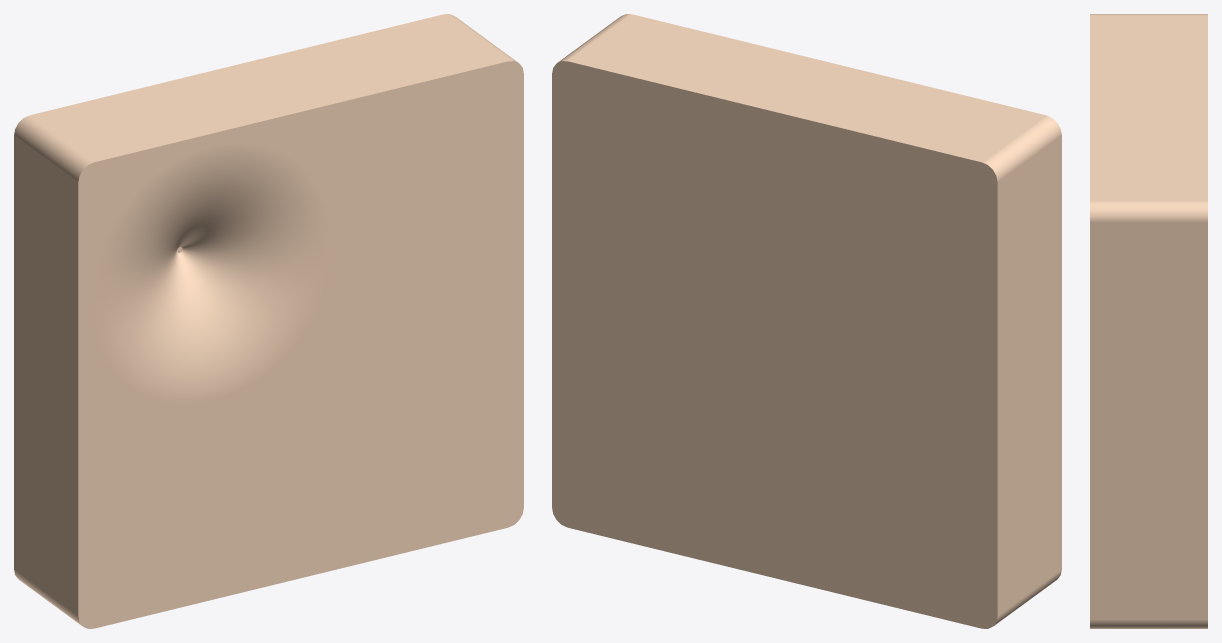
The model's file is Tissue_n40_p40.obj.
The picture shows the model from 3 angles, left to right: view 1: azimuth 30°, elevation 25°; view 2: azimuth 150°, elevation 25°; view 3: azimuth 270°, elevation 25°; orthographic projection. The views are drawn at different scales.
Visible parts, largest first — view 1: mesh 1 Tissue_n40_p40; view 2: mesh 1 Tissue_n40_p40; view 3: mesh 1 Tissue_n40_p40.
Part boxes in pixels (bbox=[...]): mesh 1 Tissue_n40_p40: bbox=[14, 14, 523, 628]; mesh 1 Tissue_n40_p40: bbox=[552, 14, 1061, 628]; mesh 1 Tissue_n40_p40: bbox=[1090, 14, 1207, 628].
Bounding box in the file's own units: 0.2 × 0.2 × 0.05.
